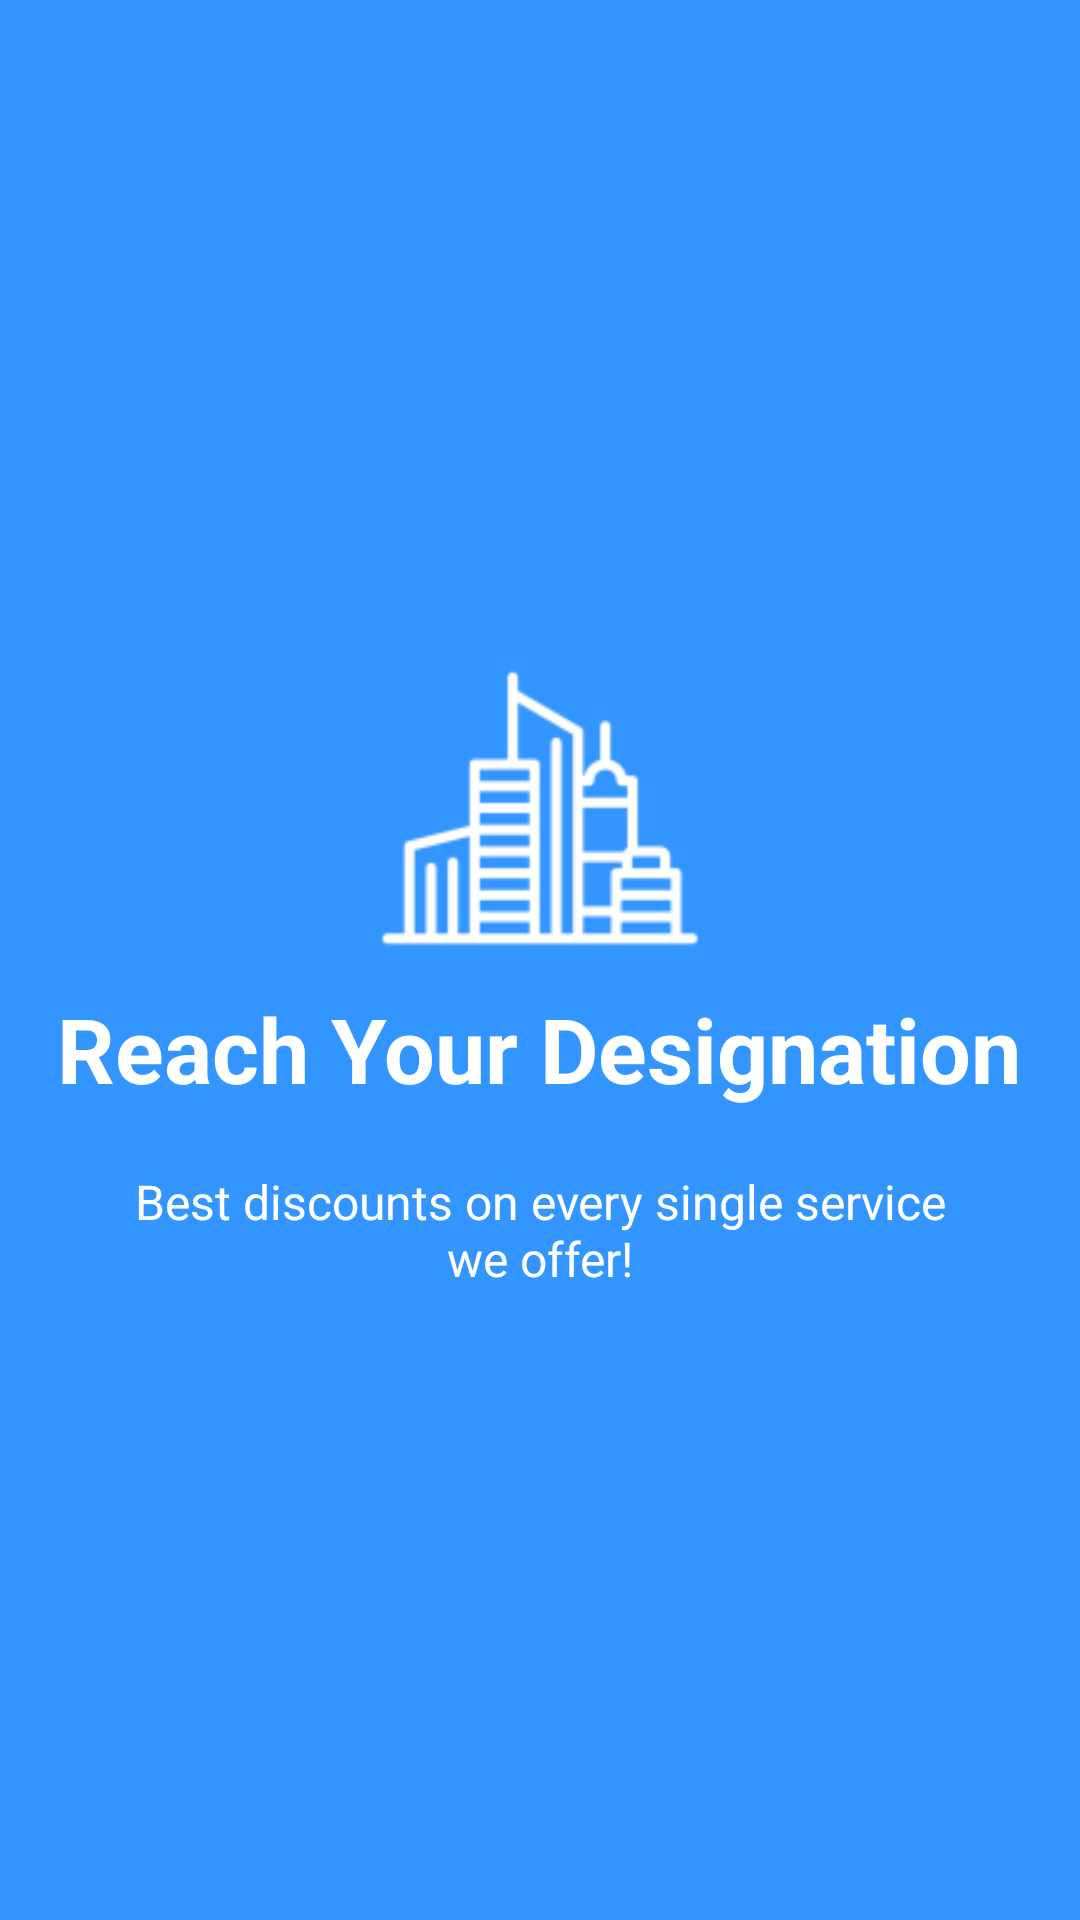

Screen size 1080×1920. Icon name, then its box in pixels as (x1, y1, x2, y2):
destination: (382, 671, 698, 946)
